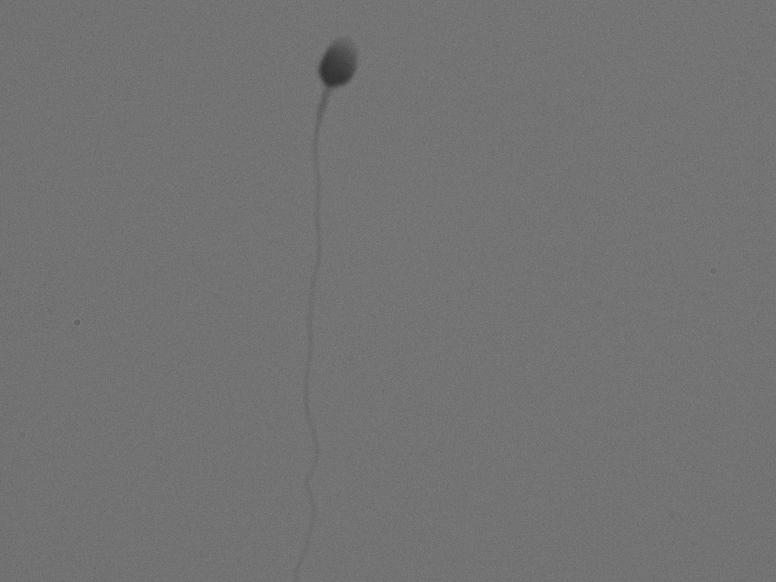Normal: (205, 11, 423, 556)
